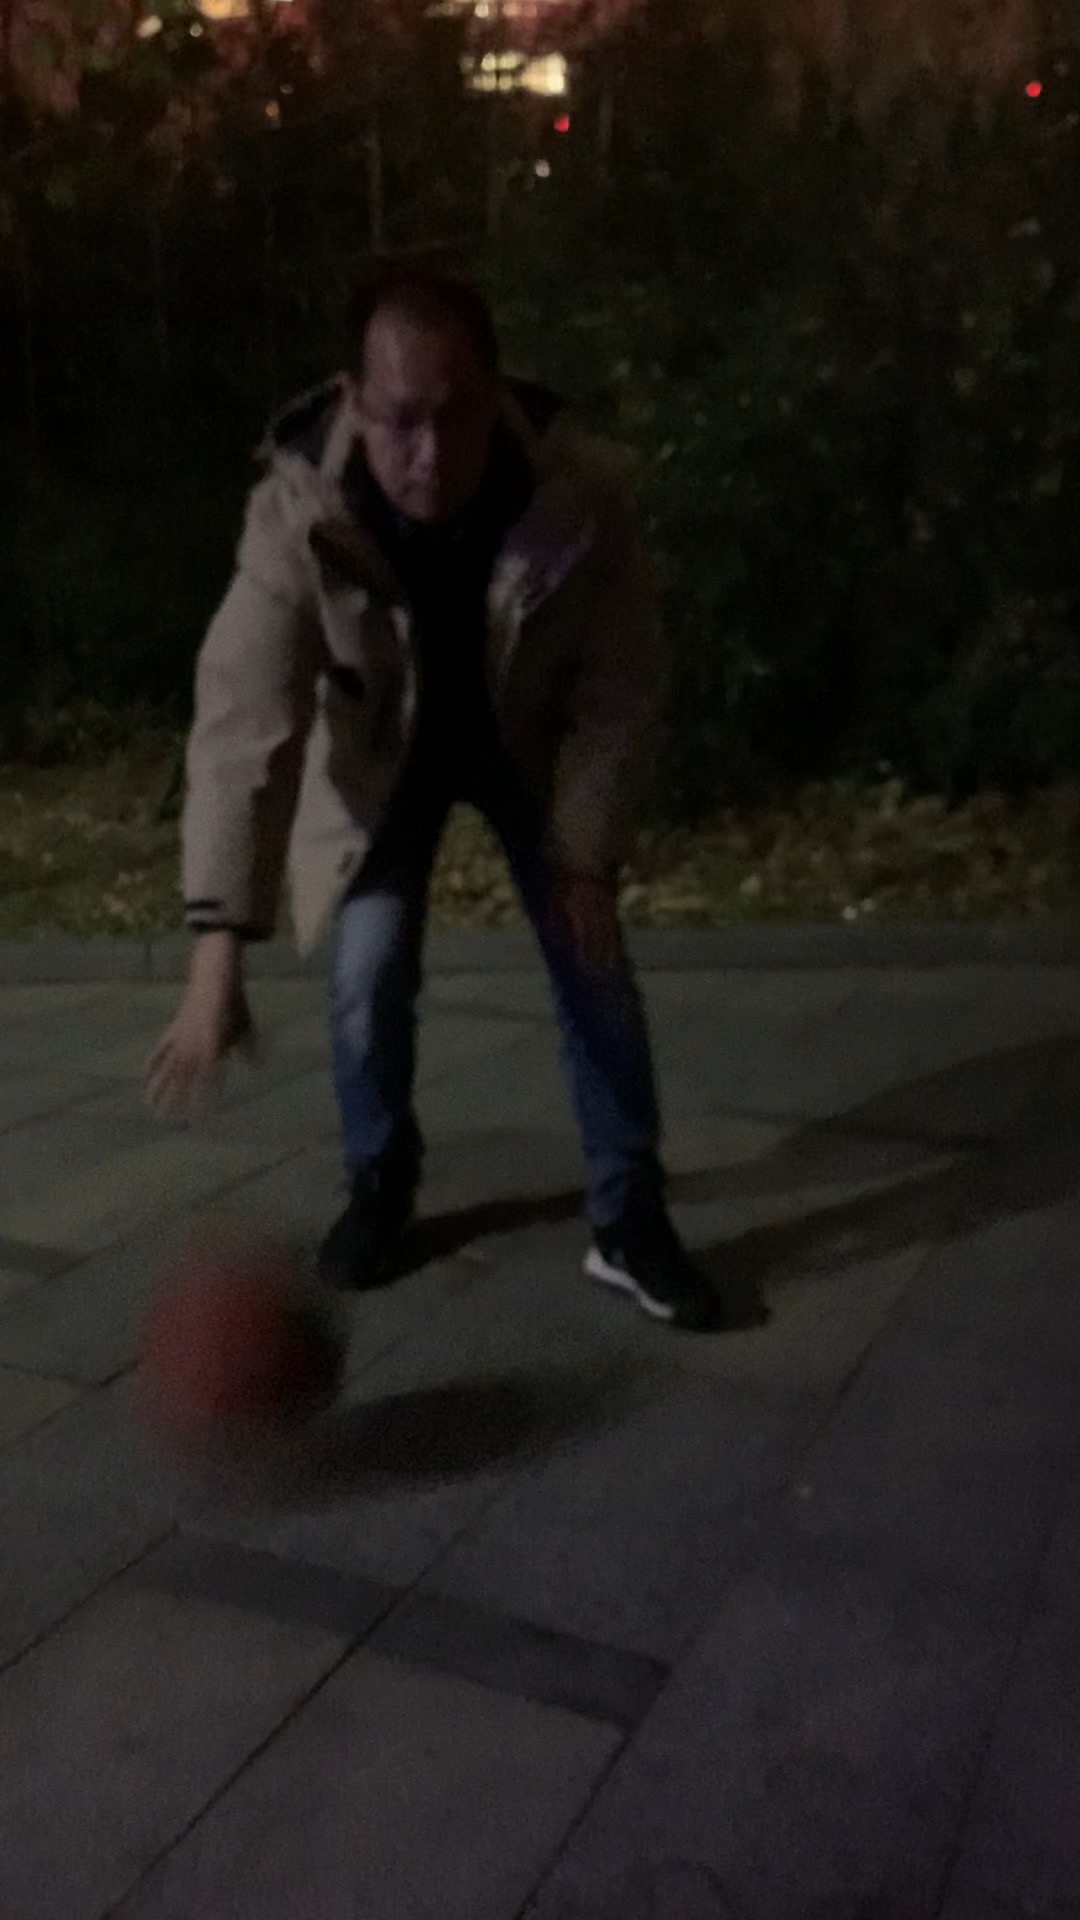ball: (138, 1247, 356, 1476)
